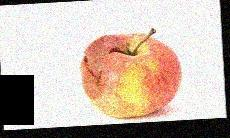rotten apple: (71, 27, 187, 118)
